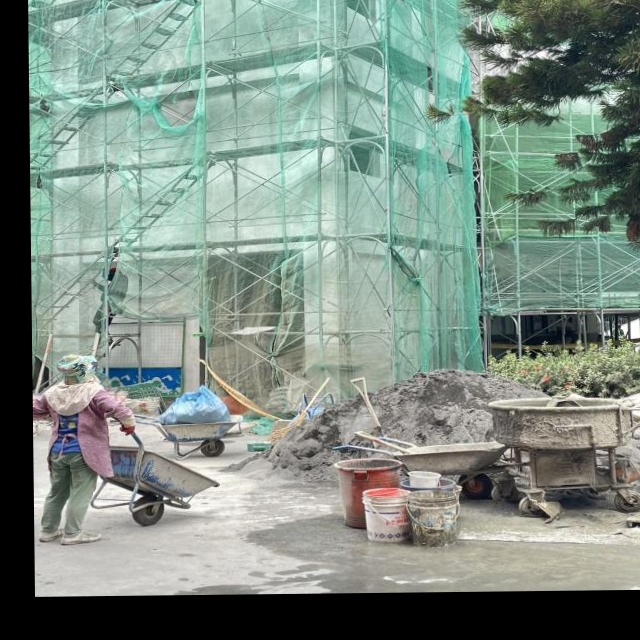Sin_Casco_Mascarrilla: (55, 355, 98, 382)
Sin_Chaleco: (45, 382, 103, 453)
